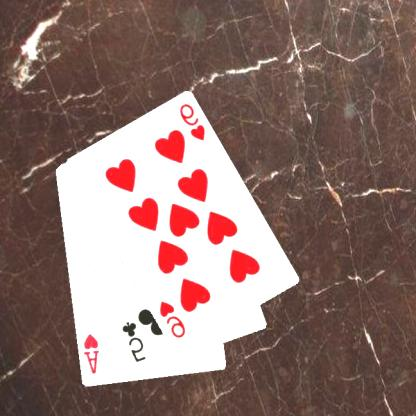5C: (121, 319, 149, 364)
9H: (158, 299, 189, 340), (178, 101, 209, 142)
AH: (82, 331, 103, 376)
